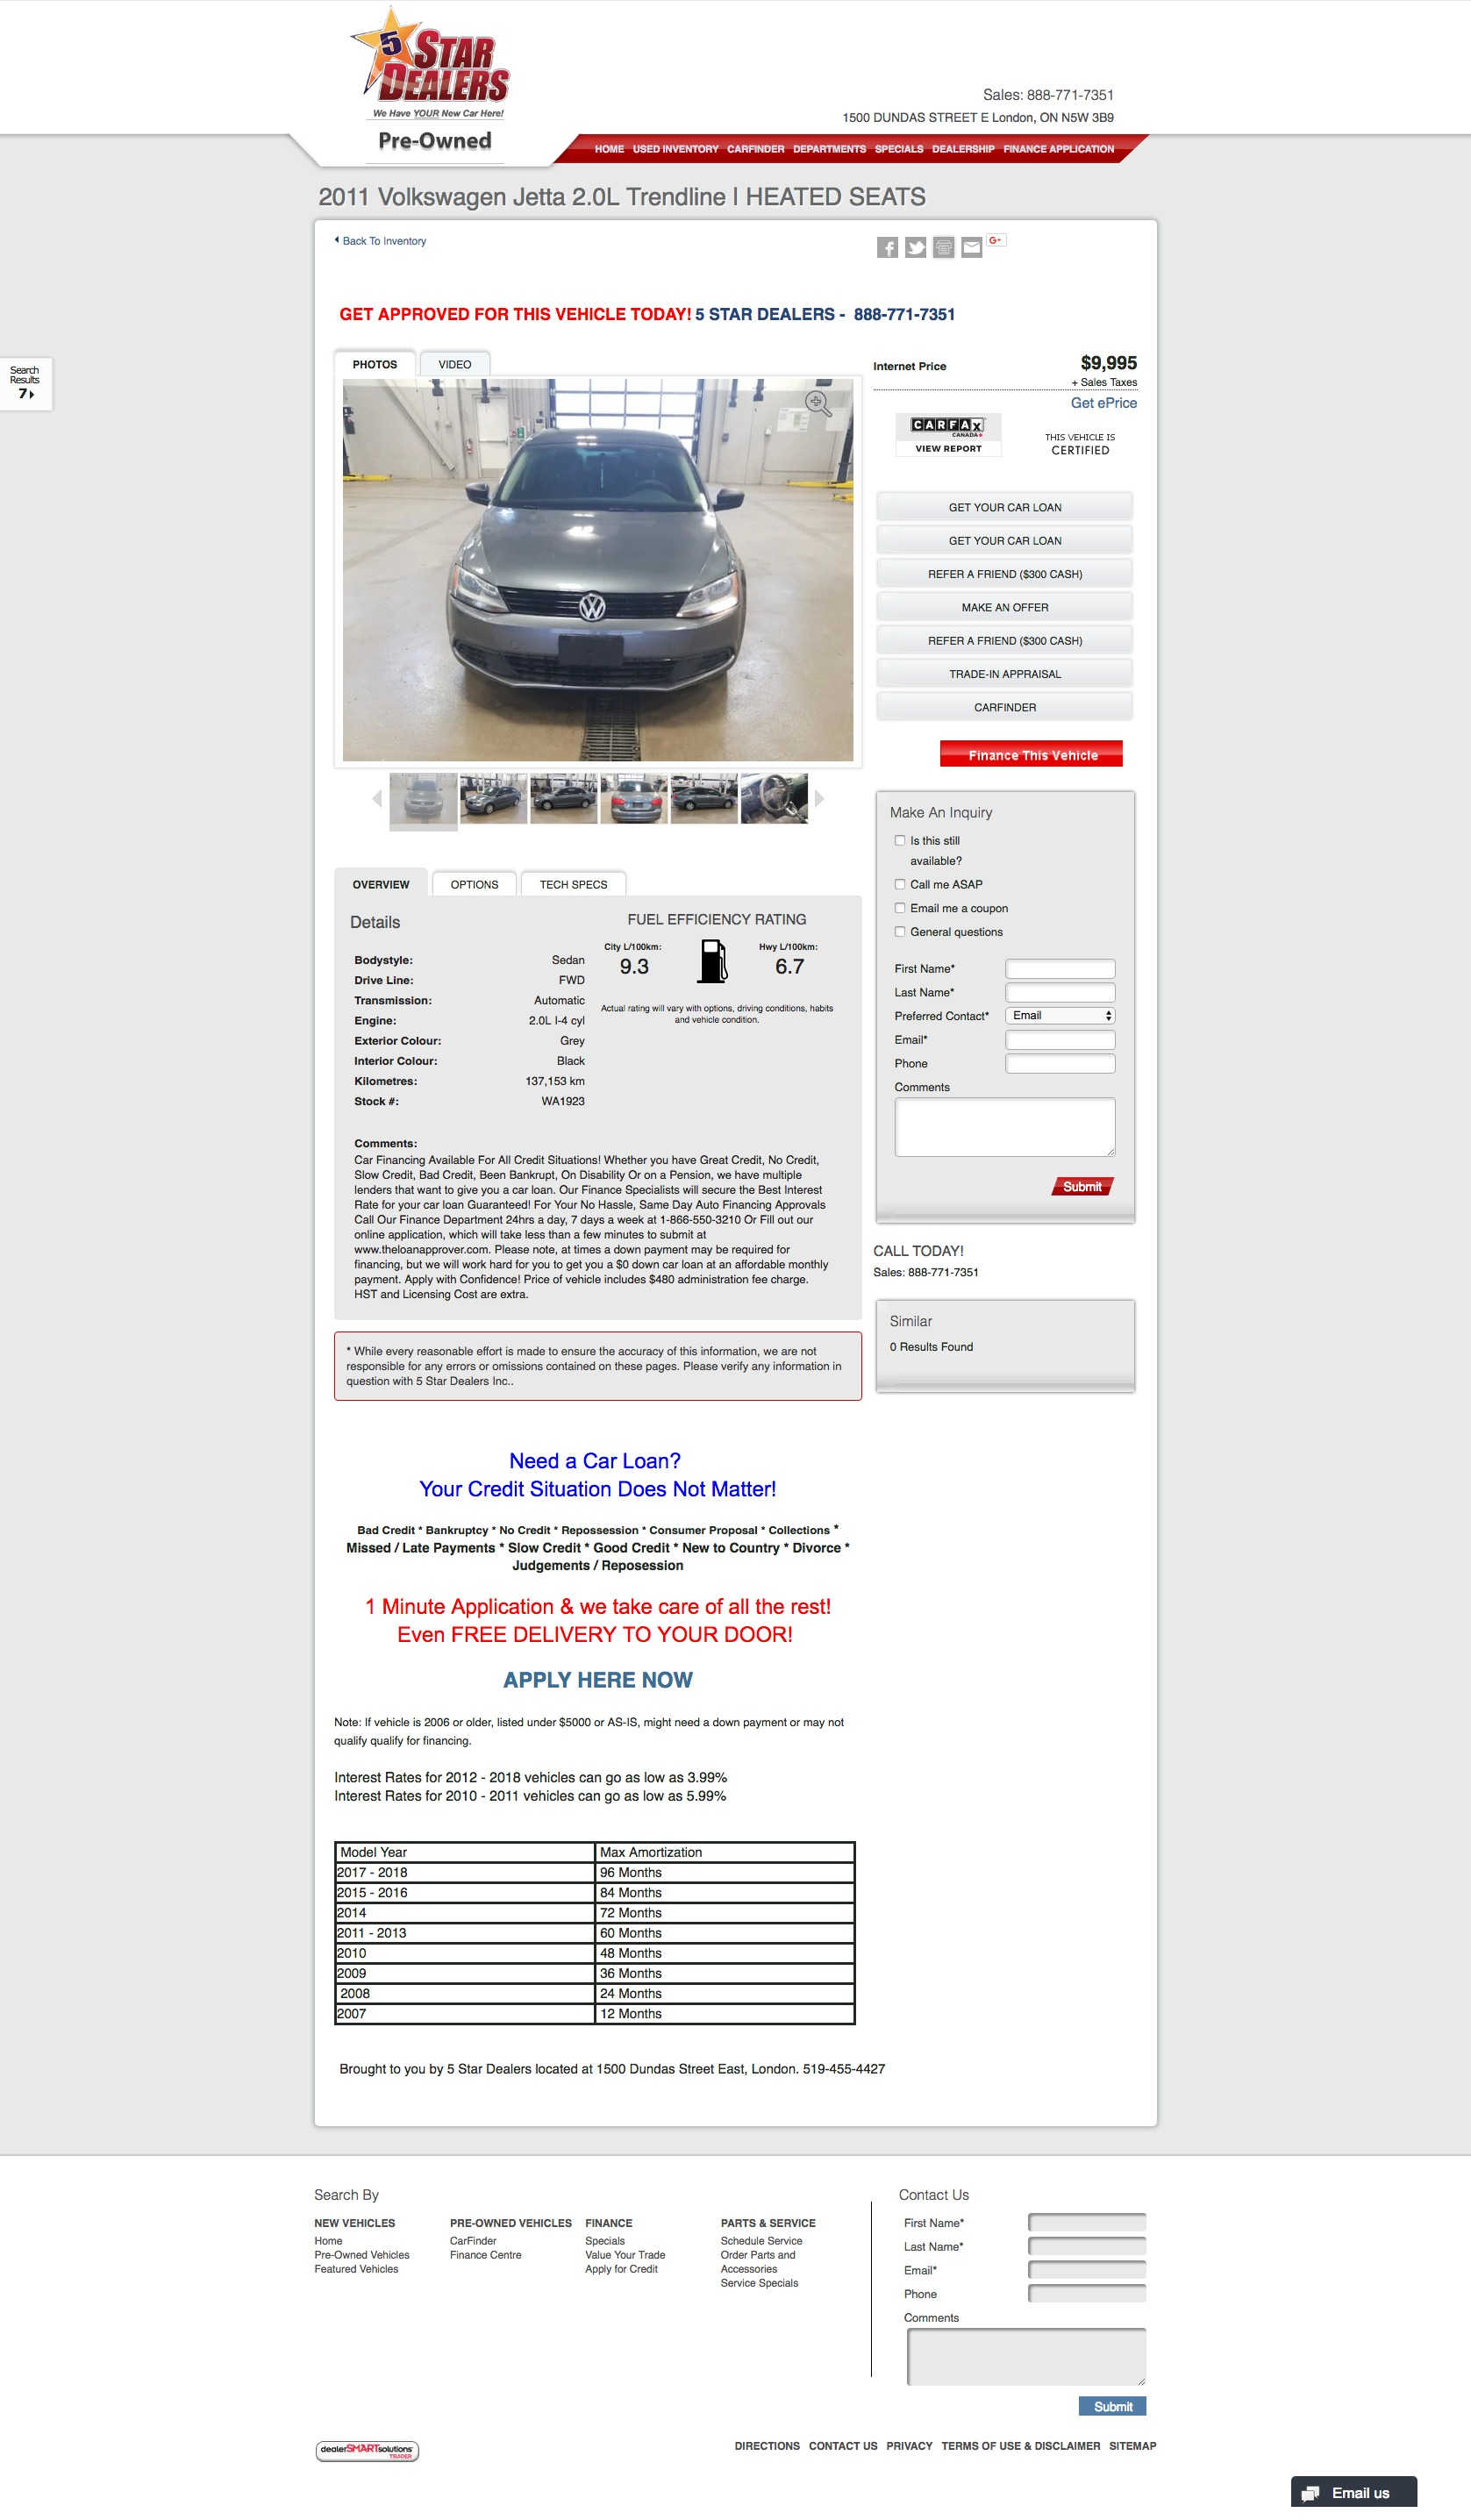arrow: (814, 790, 825, 809)
